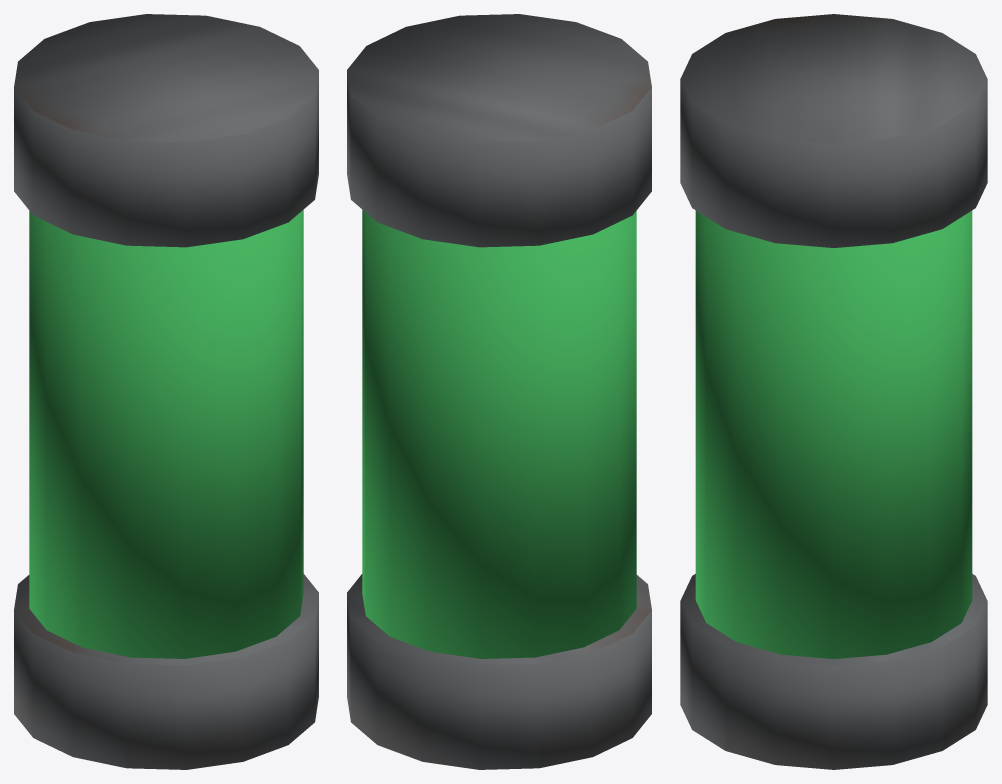
The model's file is SM_Fuse_Green.fbx.
3 renders of one model, left to right at view 1: azimuth 30°, elevation 25°; view 2: azimuth 150°, elevation 25°; view 3: azimuth 270°, elevation 25°, orthographic.
Parts seen in each view (by area): view 1: SM_Fuse_Green; view 2: SM_Fuse_Green; view 3: SM_Fuse_Green.
Part boxes in pixels (x1,y1,x2,y2): SM_Fuse_Green: (14, 14, 318, 769); SM_Fuse_Green: (347, 14, 651, 769); SM_Fuse_Green: (680, 14, 987, 769).
Size of what is drawn, in the model's own units: 0.04 by 0.09 by 0.04.
2 materials, 1 textured.
